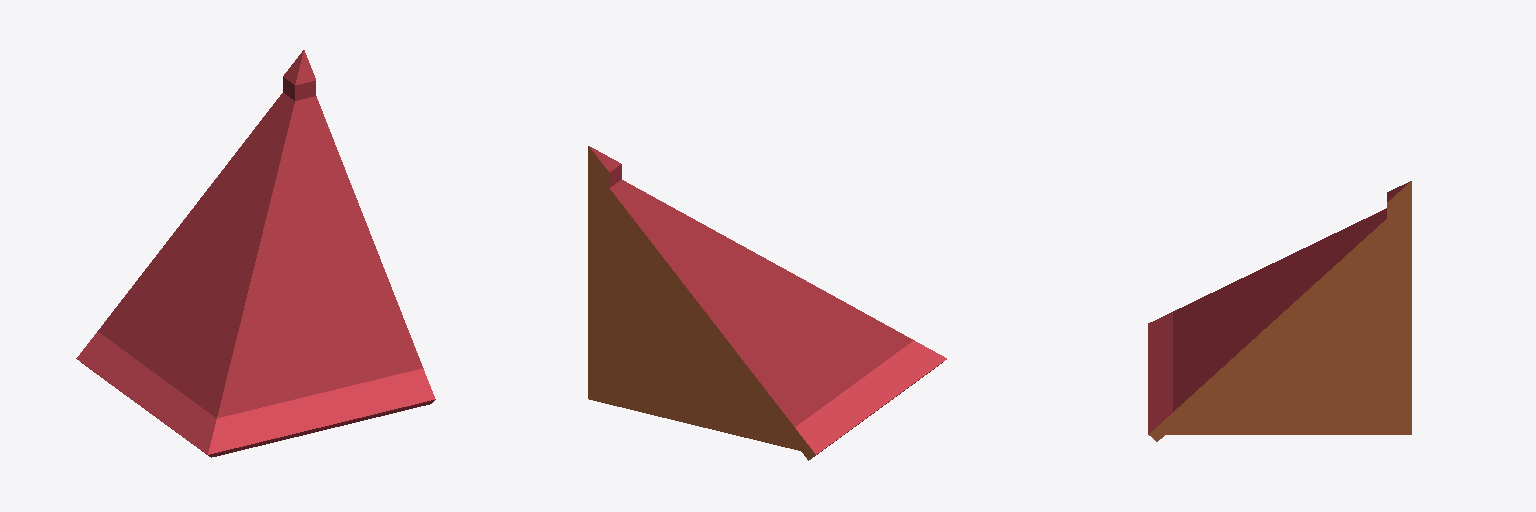
File: roofHighCorner.obj
3 views of the same model, side by side, from view 1: azimuth 30°, elevation 25°; view 2: azimuth 150°, elevation 25°; view 3: azimuth 270°, elevation 25° (orthographic).
Parts seen in each view (by area): view 1: roofHighCorner; view 2: roofHighCorner; view 3: roofHighCorner.
Boxes of the visible parts, x1,y1,x2,y2 form: roofHighCorner: [76, 50, 435, 457]; roofHighCorner: [588, 146, 946, 460]; roofHighCorner: [1148, 181, 1411, 441].
Bounding box in the file's own units: 1.07 × 1.18 × 1.07.